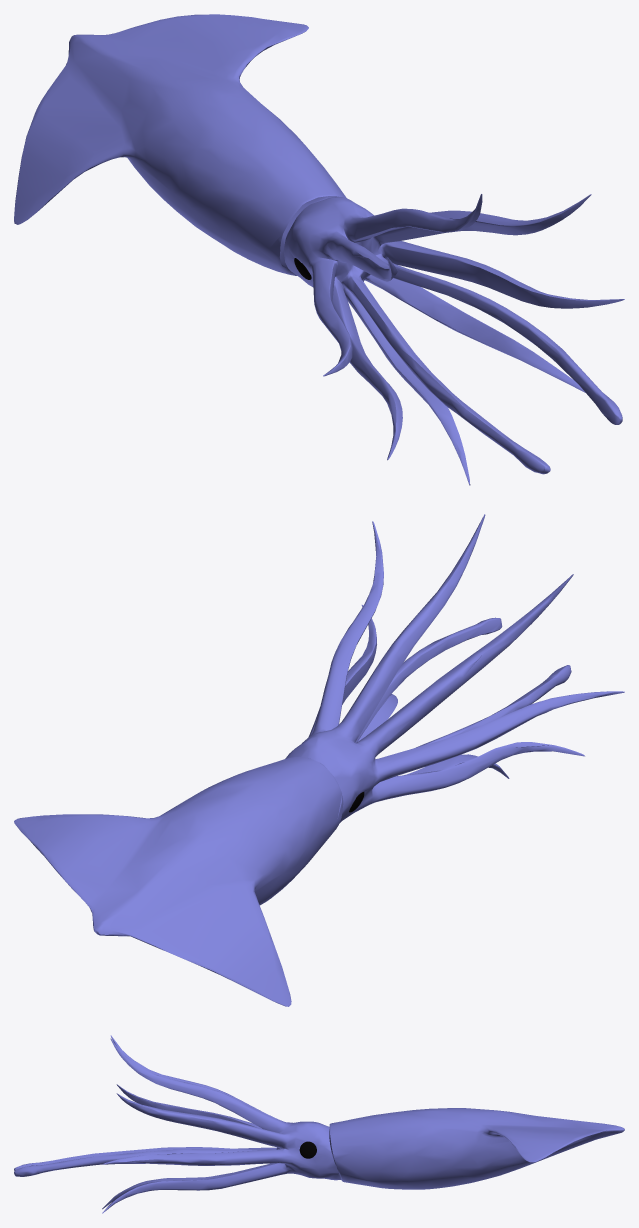
Rendered from calamar.glb.
The picture shows the model from 3 angles, top to bottom: view 1: azimuth 30°, elevation 25°; view 2: azimuth 150°, elevation 25°; view 3: azimuth 270°, elevation 25°; orthographic projection. The views are drawn at different scales.
Visible parts, largest first — view 1: Object_3; view 2: Object_3; view 3: Object_3.
Boxes of the visible parts, <box> form: Object_3: <box>14,14,624,485</box>; Object_3: <box>14,514,624,1006</box>; Object_3: <box>14,1035,624,1213</box>.
Bounding box in the file's own units: 22.59 × 19.23 × 60.3.
